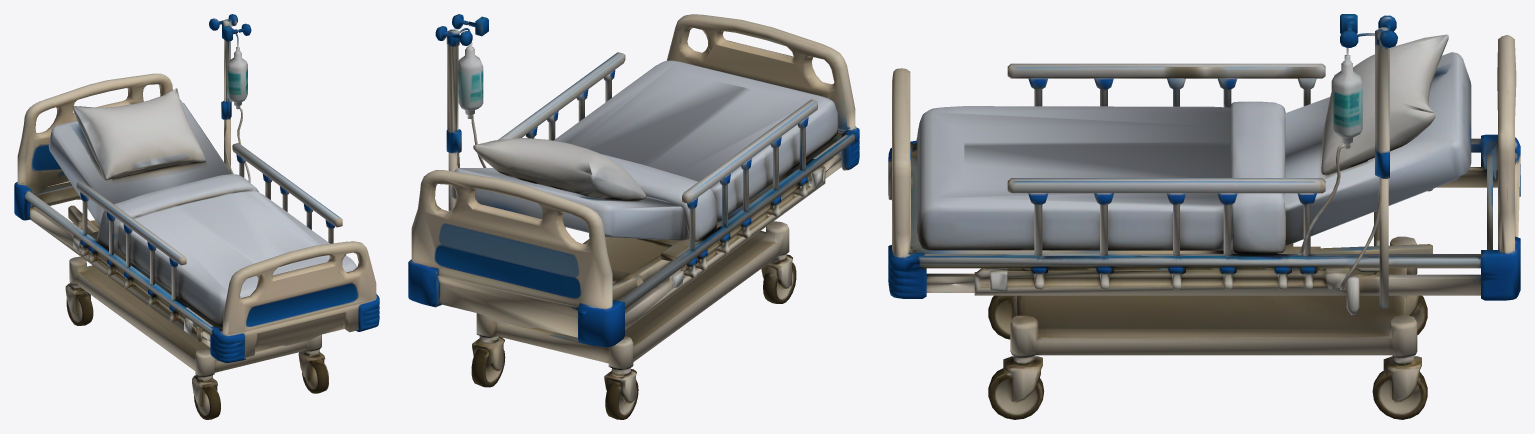
File: Medical__a_hospital_gurney_b52d2a37_v3.cluster.glb
The picture shows the model from 3 angles, left to right: view 1: azimuth 30°, elevation 25°; view 2: azimuth 150°, elevation 25°; view 3: azimuth 270°, elevation 25°; orthographic projection. The views are drawn at different scales.
Visible parts, largest first — view 1: material; view 2: material; view 3: material.
Part boxes in pixels (<box>): material: <box>14,14,379,419</box>; material: <box>408,14,859,419</box>; material: <box>888,14,1520,419</box>.
Size of the model in its own units: 0.951 by 1.39 by 1.9.
Materials: 1 (1 with a texture image).
